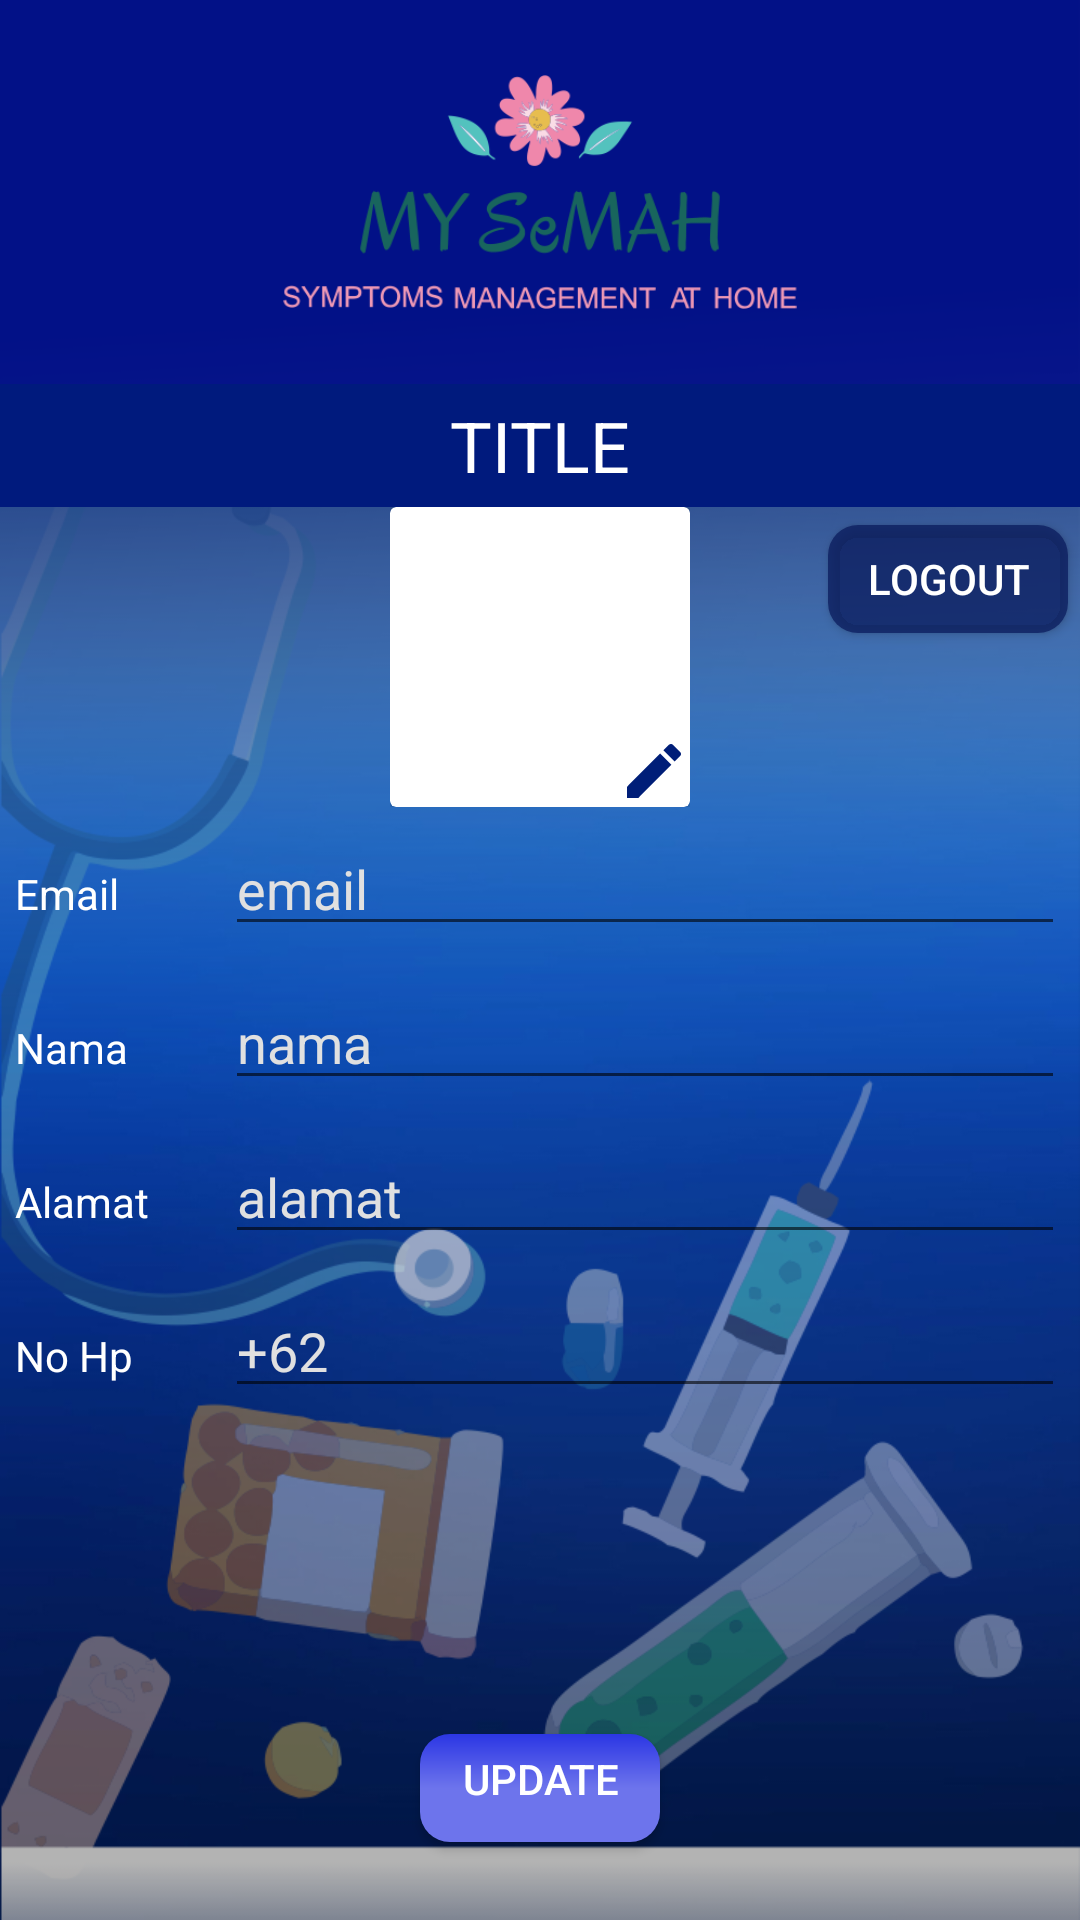

Screen size 1080px x 1920px. Icon name, then its box in pixels as rect(x1, y1, x2, y2):
edit: rect(627, 744, 681, 798)
